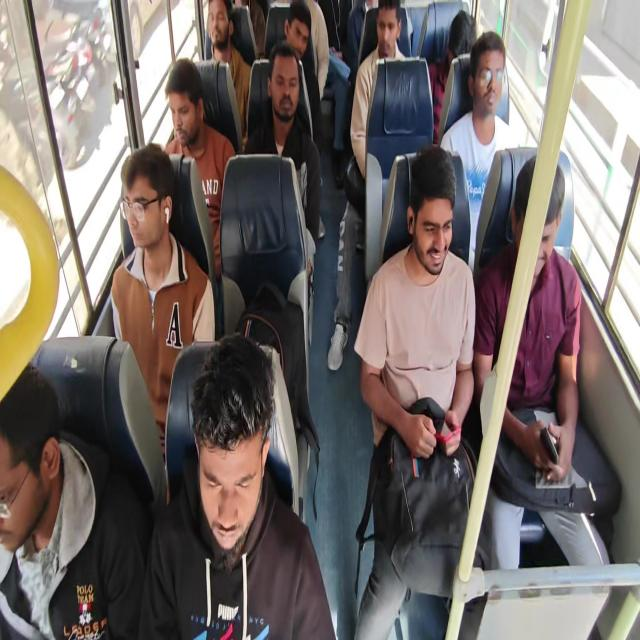person: (166, 367, 310, 640), (400, 152, 500, 316), (0, 352, 59, 606), (118, 133, 186, 279), (517, 162, 586, 300), (168, 63, 226, 175), (258, 0, 323, 47), (374, 0, 417, 68), (479, 42, 517, 118), (266, 67, 302, 129), (202, 4, 238, 61), (309, 0, 352, 47), (450, 24, 488, 74), (284, 0, 316, 57), (357, 0, 392, 39), (220, 0, 256, 12)
